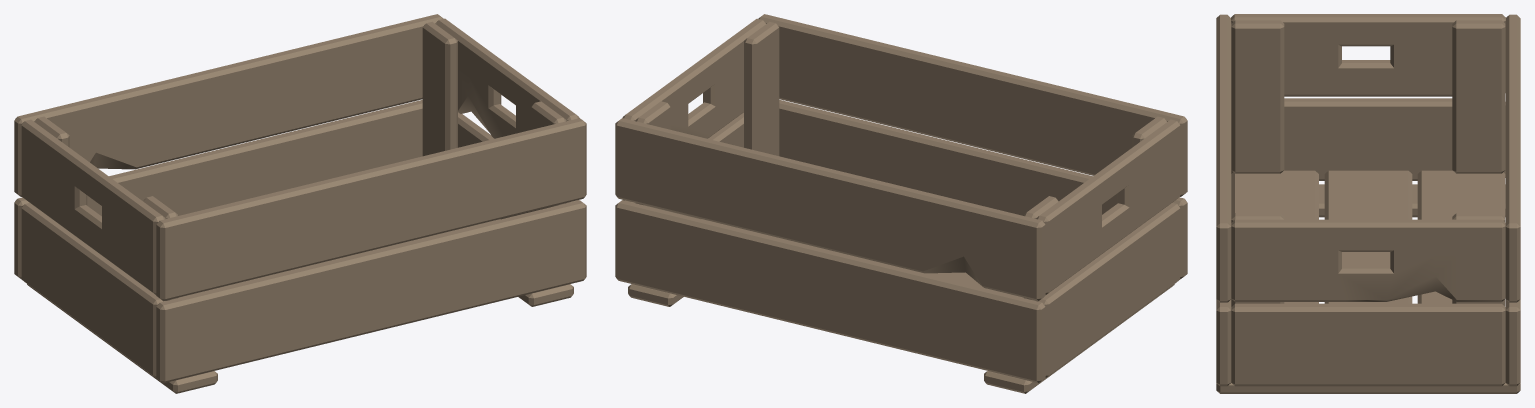
The model's file is Small_Crate.fbx.
The picture shows the model from 3 angles, left to right: view 1: azimuth 30°, elevation 25°; view 2: azimuth 150°, elevation 25°; view 3: azimuth 270°, elevation 25°; orthographic projection.
Visible parts, largest first — view 1: pCube13, pCube16, pCube17, pCube18, pCube26, pCube27, pCube23, pCube53, pCube49, pCube24, pCube50, pCube54; view 2: pCube18, pCube17, pCube16, pCube13, pCube26, pCube27, pCube23, pCube54, pCube49, pCube24, pCube50, pCube8 (+1 smaller); view 3: pCube24, pCube23, pCube26, pCube27, pCube51, pCube52, pCube8, pCube17, pCube16, pCube9, pCube7, pCube50 (+5 smaller).
Part boxes in pixels (bbox=[...]): pCube13: bbox=[156, 200, 586, 383]; pCube16: bbox=[156, 118, 586, 301]; pCube17: bbox=[14, 14, 443, 196]; pCube18: bbox=[14, 100, 422, 279]; pCube26: bbox=[21, 119, 165, 294]; pCube27: bbox=[21, 203, 165, 377]; pCube23: bbox=[436, 18, 579, 138]; pCube53: bbox=[422, 21, 457, 156]; pCube49: bbox=[27, 284, 217, 393]; pCube24: bbox=[458, 112, 578, 219]; pCube50: bbox=[518, 284, 573, 306]; pCube54: bbox=[531, 101, 566, 211]; pCube18: bbox=[615, 200, 1045, 383]; pCube17: bbox=[615, 118, 1045, 300]; pCube16: bbox=[758, 14, 1187, 196]; pCube13: bbox=[779, 100, 1187, 278]; pCube26: bbox=[1036, 119, 1180, 294]; pCube27: bbox=[1036, 203, 1180, 377]; pCube23: bbox=[622, 18, 765, 138]; pCube54: bbox=[744, 21, 779, 155]; pCube49: bbox=[984, 284, 1174, 393]; pCube24: bbox=[623, 112, 743, 219]; pCube50: bbox=[628, 284, 683, 306]; pCube8: bbox=[701, 219, 1023, 297]; pCube24: bbox=[1231, 303, 1505, 386]; pCube23: bbox=[1231, 219, 1505, 301]; pCube26: bbox=[1231, 14, 1505, 96]; pCube27: bbox=[1231, 98, 1505, 180]; pCube51: bbox=[1231, 20, 1284, 173]; pCube52: bbox=[1452, 20, 1505, 173]; pCube8: bbox=[1324, 170, 1412, 303]; pCube17: bbox=[1505, 14, 1520, 302]; pCube16: bbox=[1216, 14, 1231, 302]; pCube9: bbox=[1417, 170, 1505, 303]; pCube7: bbox=[1231, 170, 1318, 303]; pCube50: bbox=[1216, 383, 1520, 393].
Bounding box in the file's own units: 0.5039 × 0.1971 × 0.3061.
